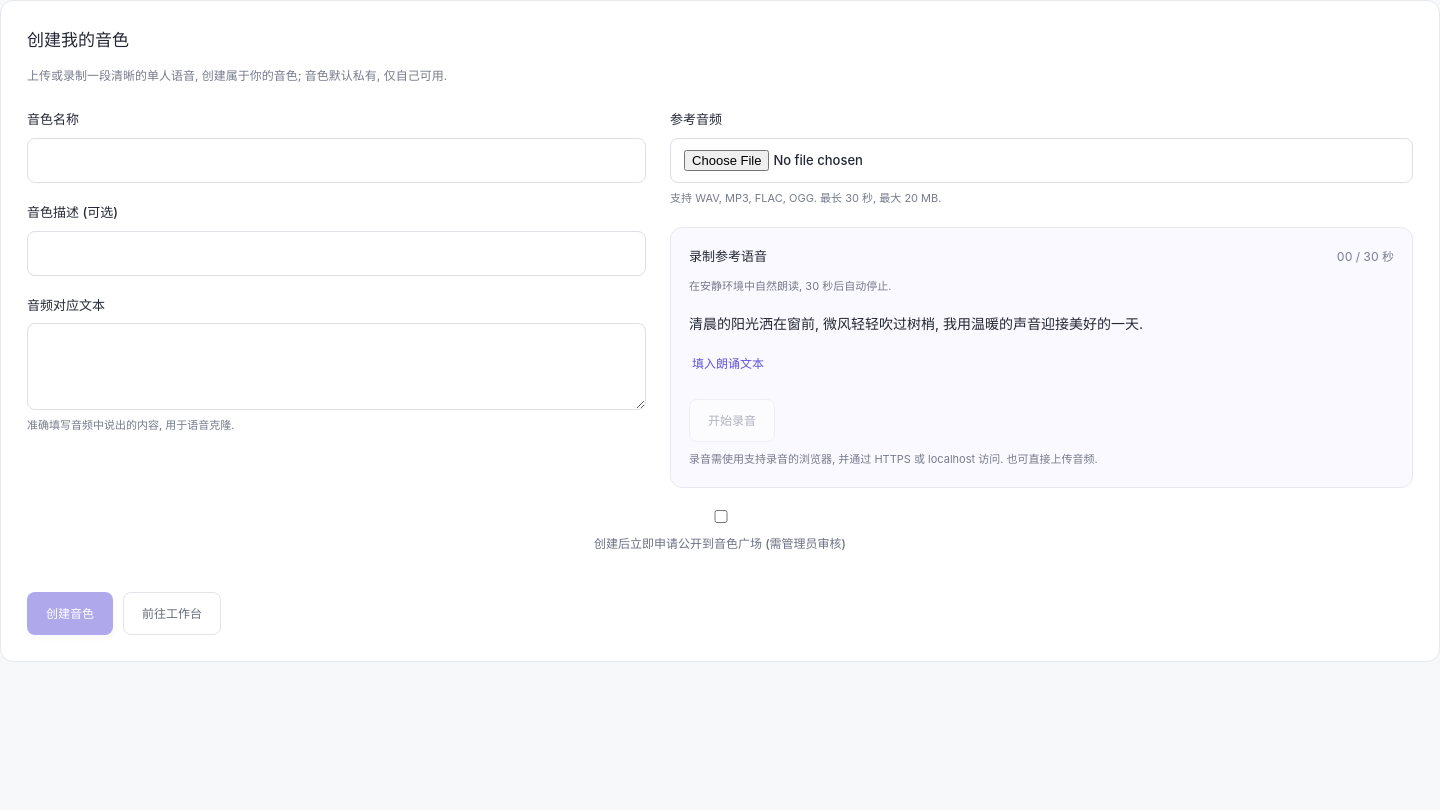
Scenario: reference recording › keeps upload available when recording is unsupported
Expected: the button "开始录音" is disabled, [689,399,775,442]
Expected: the file field labelled "参考音频" is enabled, [670,138,1413,183]
Click the button "填入朗诵文本" at (728, 363), box [689,348,767,379]
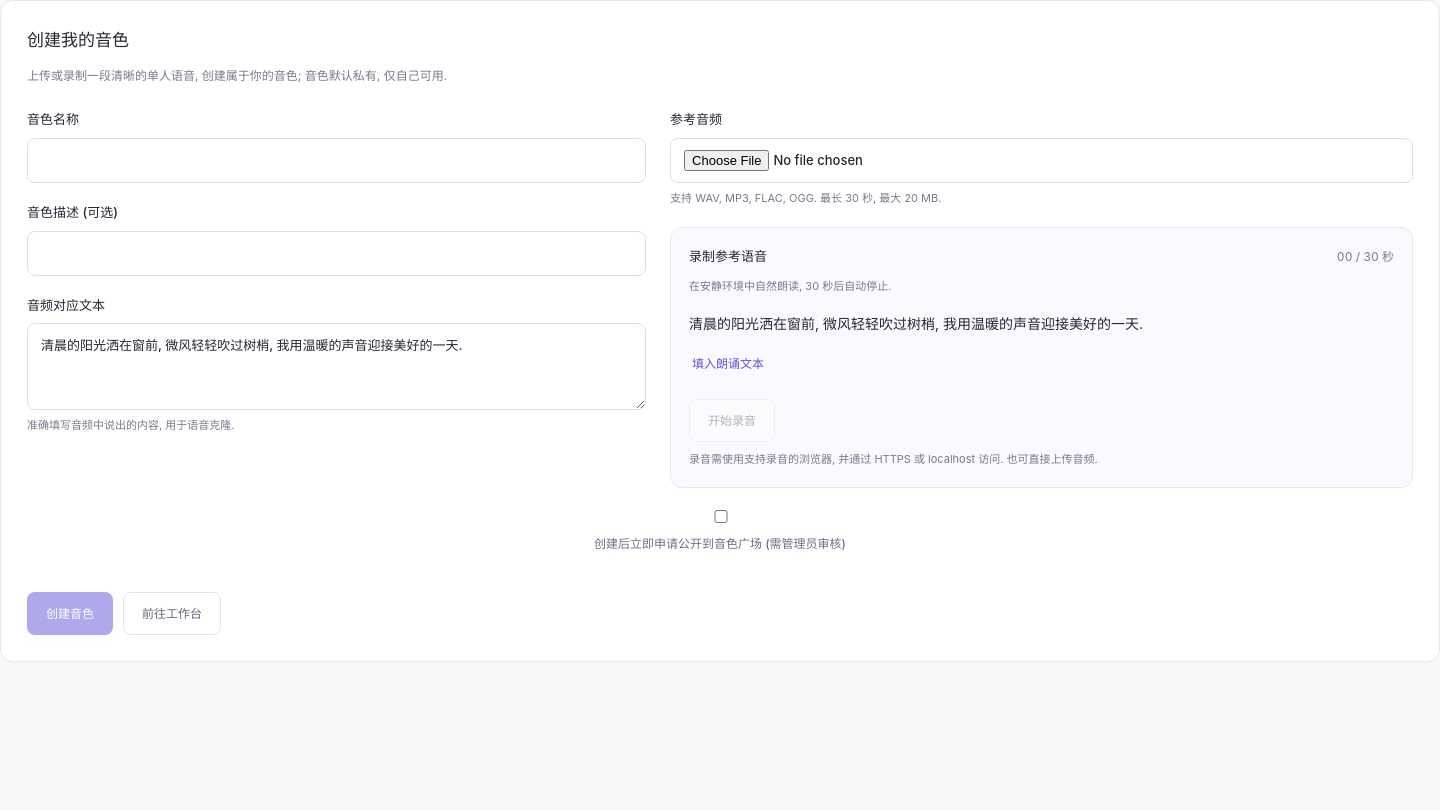
Now the text box labelled "音频对应文本" is not empty, box [27,323,646,410]
